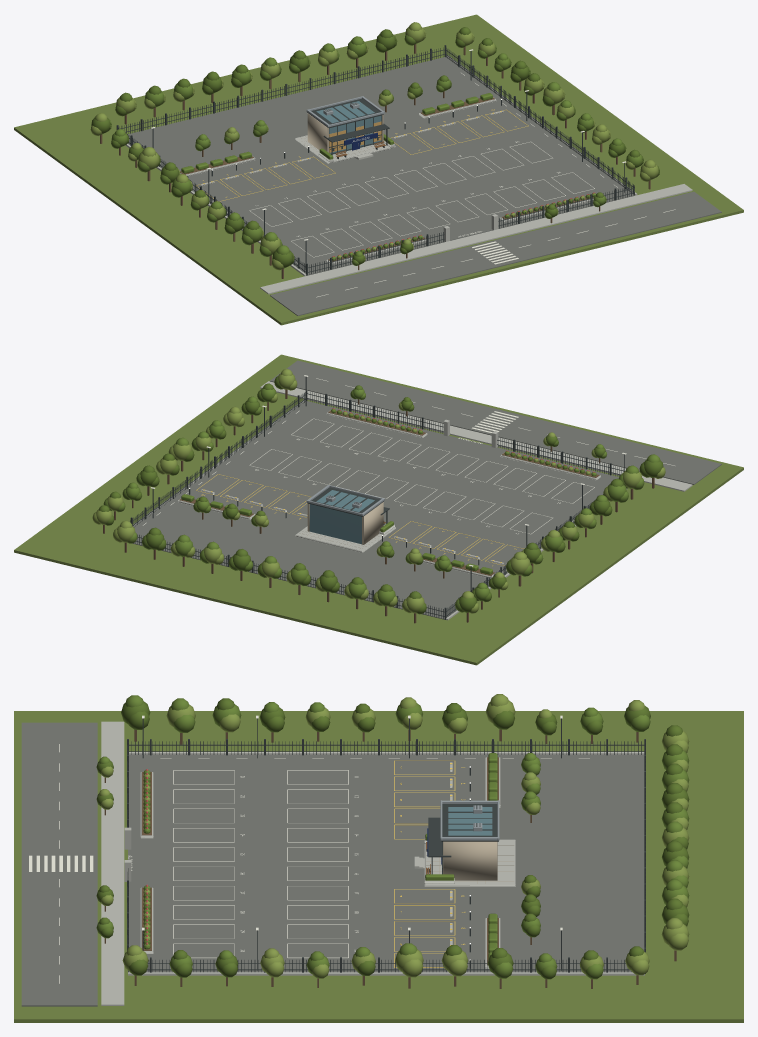
File: market.glb
3 renders of one model, top to bottom at view 1: azimuth 30°, elevation 25°; view 2: azimuth 150°, elevation 25°; view 3: azimuth 270°, elevation 25°, orthographic. The views are drawn at different scales.
Visible parts, largest first — view 1: Market_Asphalt, Market_Grass, Market_Fence graphite, Market_Concrete, Market_Foliage 0, Market_Foliage 2, Market_Foliage 1, Market_Road paint, Market_Bark, Market_Office glazing, Market_VIP gold, Market_Office sandstone (+1 smaller); view 2: Market_Asphalt, Market_Grass, Market_Concrete, Market_Foliage 1, Market_Foliage 2, Market_Foliage 0, Market_Fence graphite, Market_Road paint, Market_Office glazing, Market_Bark, Market_VIP gold, Market_Office sandstone (+1 smaller); view 3: Market_Asphalt, Market_Grass, Market_Concrete, Market_Foliage 2, Market_Foliage 1, Market_Fence graphite, Market_Foliage 0, Market_Road paint, Market_Office sandstone, Market_Bark, Market_VIP gold, Market_Office glazing (+1 smaller).
Part boxes in pixels (left/top/right/bottom): Market_Asphalt: left=128, top=57, right=721, bottom=315; Market_Grass: left=14, top=14, right=743, bottom=325; Market_Fence graphite: left=116, top=45, right=634, bottom=275; Market_Concrete: left=125, top=56, right=692, bottom=294; Market_Foliage 0: left=107, top=35, right=642, bottom=265; Market_Foliage 2: left=91, top=27, right=659, bottom=268; Market_Foliage 1: left=90, top=22, right=658, bottom=270; Market_Road paint: left=151, top=49, right=675, bottom=297; Market_Bark: left=100, top=44, right=650, bottom=278; Market_Office glazing: left=316, top=101, right=381, bottom=154; Market_VIP gold: left=196, top=109, right=528, bottom=201; Market_Office sandstone: left=302, top=113, right=383, bottom=158; Market_Asphalt: left=132, top=360, right=721, bottom=619; Market_Grass: left=14, top=354, right=743, bottom=665; Market_Concrete: left=133, top=381, right=692, bottom=620; Market_Foliage 1: left=92, top=368, right=665, bottom=613; Market_Foliage 2: left=98, top=375, right=663, bottom=614; Market_Foliage 0: left=103, top=388, right=660, bottom=612; Market_Fence graphite: left=130, top=376, right=626, bottom=619; Market_Road paint: left=142, top=375, right=675, bottom=572; Market_Office glazing: left=309, top=490, right=374, bottom=544; Market_Bark: left=103, top=389, right=654, bottom=623; Market_VIP gold: left=196, top=474, right=524, bottom=566; Market_Office sandstone: left=302, top=502, right=383, bottom=548; Market_Asphalt: left=21, top=722, right=644, bottom=1006; Market_Grass: left=14, top=711, right=743, bottom=1022; Market_Concrete: left=101, top=721, right=644, bottom=1005; Market_Foliage 2: left=96, top=698, right=689, bottom=979; Market_Foliage 1: left=99, top=694, right=689, bottom=978; Market_Fence graphite: left=127, top=718, right=645, bottom=973; Market_Foliage 0: left=96, top=695, right=689, bottom=979; Market_Road paint: left=29, top=715, right=589, bottom=983; Market_Office sandstone: left=426, top=841, right=513, bottom=883; Market_Bark: left=104, top=729, right=676, bottom=988; Market_VIP gold: left=394, top=760, right=465, bottom=967; Market_Office glazing: left=448, top=807, right=492, bottom=835.
Bounding box in the file's own units: 96 × 7.51 × 96.
